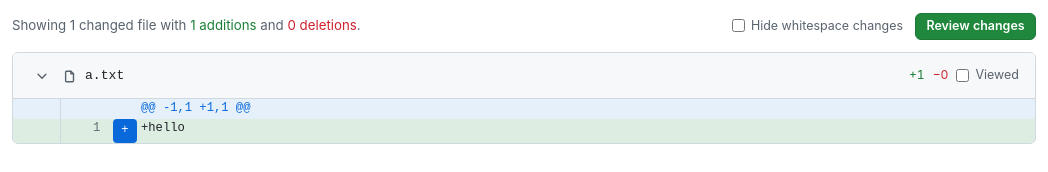
it: PRFilesView per-file controls › collapses and re-expands a file diff via the chevron
The width and height of the screenshot is (1048, 172).
Check: the text "+hello" is shown, box [141, 120, 185, 134]
Click the button named "Toggle diff for a.txt" at [42, 76], box [29, 62, 55, 88]
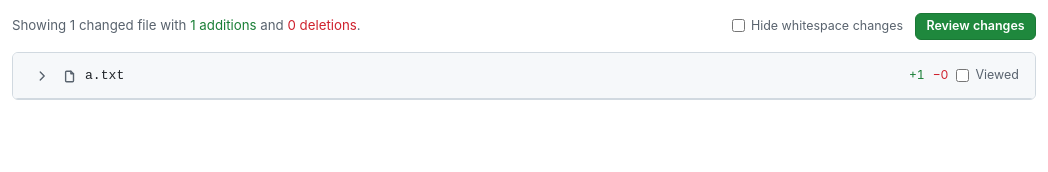
Check: the text "+hello" is gone
Check: the button named "Toggle diff for a.txt" is collapsed
Click the button named "Toggle diff for a.txt" at [42, 76], box [29, 62, 55, 88]
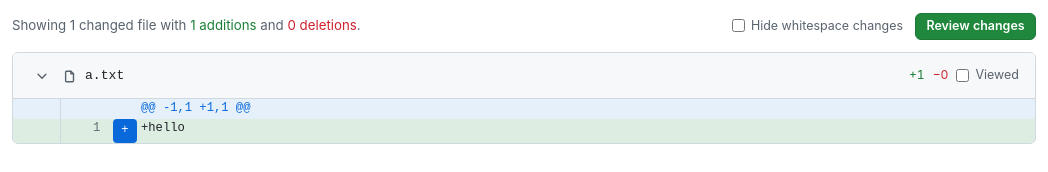
Check: the text "+hello" is shown, box [141, 120, 185, 134]
